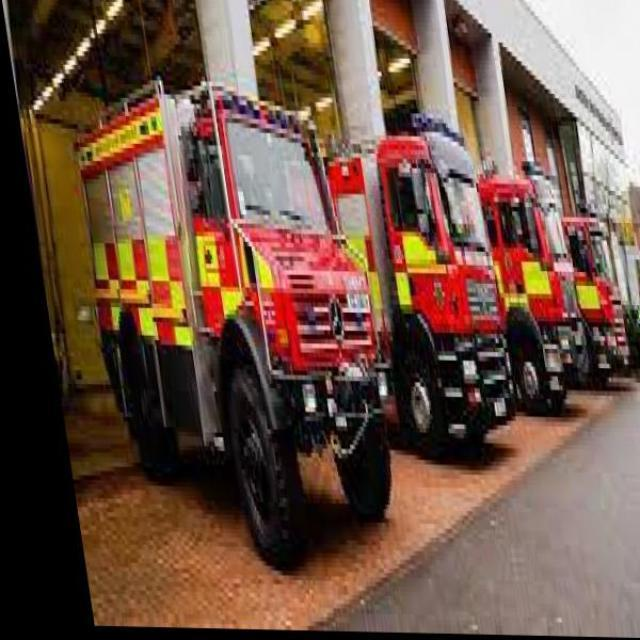emergency: (72, 75, 396, 570), (325, 116, 517, 464), (412, 156, 588, 418), (476, 205, 634, 389)
